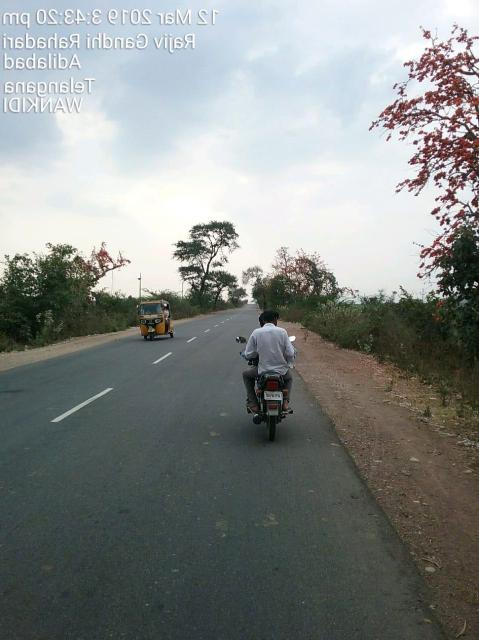motor: (255, 372, 290, 442)
non-helm: (265, 312, 280, 327)
